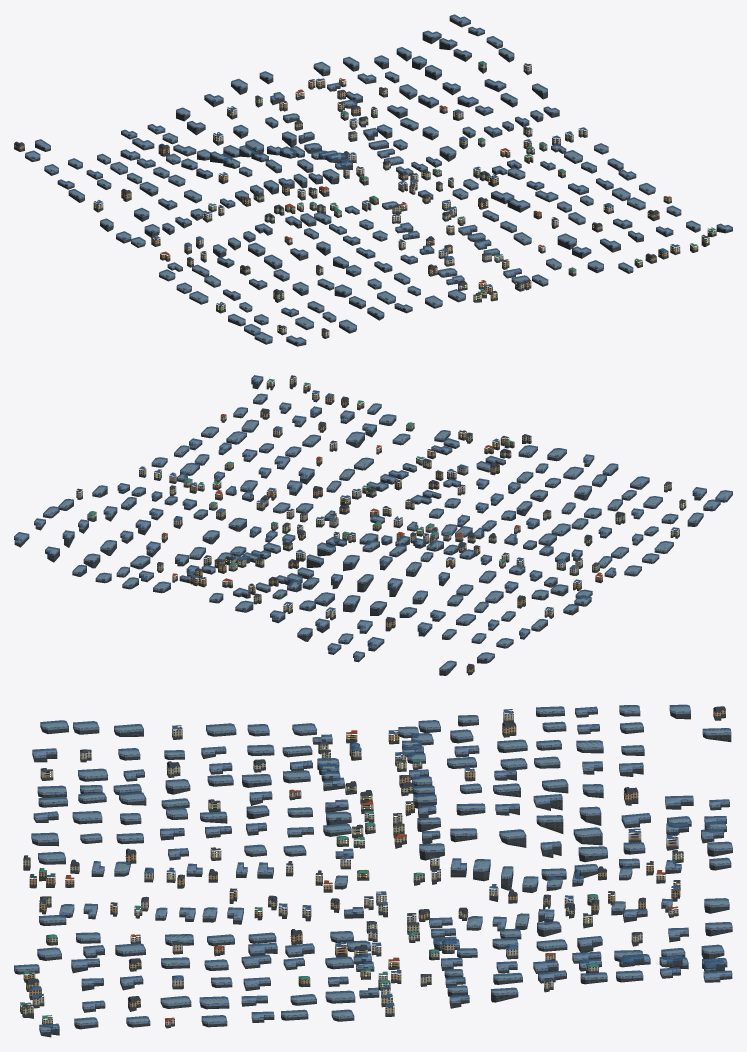
The model's file is osm_buildings_T_E01_N02_Q2.glb.
3 views of the same model, one above another, from view 1: azimuth 30°, elevation 25°; view 2: azimuth 150°, elevation 25°; view 3: azimuth 270°, elevation 25° (orthographic). The views are drawn at different scales.
Visible parts, largest first — view 1: OSM_T_E01_N02_Q2_greenhouse_blend, OSM_T_E01_N02_Q2_foundation, OSM_T_E01_N02_Q2_wall_french_ochre, OSM_T_E01_N02_Q2_window_emissive_warm, OSM_T_E01_N02_Q2_wall_cream_stucco, OSM_T_E01_N02_Q2_roof_mansard_slate, OSM_T_E01_N02_Q2_roof_mansard_deck, OSM_T_E01_N02_Q2_wall_pastel_sand, OSM_T_E01_N02_Q2_wall_warm_white, OSM_T_E01_N02_Q2_roof_alpine_blue; view 2: OSM_T_E01_N02_Q2_greenhouse_blend, OSM_T_E01_N02_Q2_foundation, OSM_T_E01_N02_Q2_wall_french_ochre, OSM_T_E01_N02_Q2_window_emissive_warm, OSM_T_E01_N02_Q2_roof_mansard_deck, OSM_T_E01_N02_Q2_wall_cream_stucco, OSM_T_E01_N02_Q2_roof_mansard_slate, OSM_T_E01_N02_Q2_wall_pastel_sand, OSM_T_E01_N02_Q2_wall_warm_white, OSM_T_E01_N02_Q2_roof_alpine_blue, OSM_T_E01_N02_Q2_roof_mint_metal; view 3: OSM_T_E01_N02_Q2_greenhouse_blend, OSM_T_E01_N02_Q2_foundation, OSM_T_E01_N02_Q2_roof_mansard_deck, OSM_T_E01_N02_Q2_wall_french_ochre, OSM_T_E01_N02_Q2_window_emissive_warm, OSM_T_E01_N02_Q2_wall_cream_stucco, OSM_T_E01_N02_Q2_roof_mansard_slate, OSM_T_E01_N02_Q2_wall_pastel_sand, OSM_T_E01_N02_Q2_wall_warm_white, OSM_T_E01_N02_Q2_roof_alpine_blue, OSM_T_E01_N02_Q2_roof_mint_metal, OSM_T_E01_N02_Q2_trim_cornice.
Part boxes in pixels (left/top/right/bottom): OSM_T_E01_N02_Q2_greenhouse_blend: left=25, top=14, right=732, bottom=344; OSM_T_E01_N02_Q2_foundation: left=14, top=18, right=732, bottom=346; OSM_T_E01_N02_Q2_wall_french_ochre: left=14, top=80, right=698, bottom=299; OSM_T_E01_N02_Q2_window_emissive_warm: left=30, top=23, right=711, bottom=338; OSM_T_E01_N02_Q2_wall_cream_stucco: left=187, top=93, right=716, bottom=311; OSM_T_E01_N02_Q2_roof_mansard_slate: left=14, top=63, right=709, bottom=331; OSM_T_E01_N02_Q2_roof_mansard_deck: left=15, top=20, right=721, bottom=343; OSM_T_E01_N02_Q2_wall_pastel_sand: left=196, top=63, right=680, bottom=336; OSM_T_E01_N02_Q2_wall_warm_white: left=93, top=65, right=613, bottom=333; OSM_T_E01_N02_Q2_roof_alpine_blue: left=94, top=78, right=679, bottom=305; OSM_T_E01_N02_Q2_greenhouse_blend: left=14, top=375, right=732, bottom=670; OSM_T_E01_N02_Q2_foundation: left=14, top=379, right=732, bottom=675; OSM_T_E01_N02_Q2_wall_french_ochre: left=189, top=384, right=602, bottom=672; OSM_T_E01_N02_Q2_window_emissive_warm: left=22, top=385, right=726, bottom=671; OSM_T_E01_N02_Q2_roof_mansard_deck: left=17, top=378, right=731, bottom=670; OSM_T_E01_N02_Q2_wall_cream_stucco: left=139, top=377, right=679, bottom=602; OSM_T_E01_N02_Q2_roof_mansard_slate: left=77, top=375, right=685, bottom=669; OSM_T_E01_N02_Q2_wall_pastel_sand: left=87, top=392, right=671, bottom=611; OSM_T_E01_N02_Q2_wall_warm_white: left=76, top=428, right=686, bottom=617; OSM_T_E01_N02_Q2_roof_alpine_blue: left=139, top=390, right=679, bottom=611; OSM_T_E01_N02_Q2_roof_mint_metal: left=88, top=379, right=514, bottom=566; OSM_T_E01_N02_Q2_greenhouse_blend: left=14, top=704, right=732, bottom=1032; OSM_T_E01_N02_Q2_foundation: left=14, top=708, right=732, bottom=1037; OSM_T_E01_N02_Q2_roof_mansard_deck: left=14, top=706, right=731, bottom=1030; OSM_T_E01_N02_Q2_wall_french_ochre: left=20, top=709, right=725, bottom=1010; OSM_T_E01_N02_Q2_window_emissive_warm: left=19, top=708, right=727, bottom=1021; OSM_T_E01_N02_Q2_wall_cream_stucco: left=22, top=727, right=683, bottom=1024; OSM_T_E01_N02_Q2_roof_mansard_slate: left=22, top=707, right=725, bottom=1007; OSM_T_E01_N02_Q2_wall_pastel_sand: left=32, top=747, right=678, bottom=1025; OSM_T_E01_N02_Q2_wall_warm_white: left=80, top=711, right=641, bottom=988; OSM_T_E01_N02_Q2_roof_alpine_blue: left=29, top=709, right=680, bottom=1006; OSM_T_E01_N02_Q2_roof_mint_metal: left=20, top=759, right=598, bottom=1018; OSM_T_E01_N02_Q2_trim_cornice: left=22, top=710, right=724, bottom=1021.
Size of the model in its own units: 956 by 88.88 by 931.
Materials: 16 (16 with a texture image).
